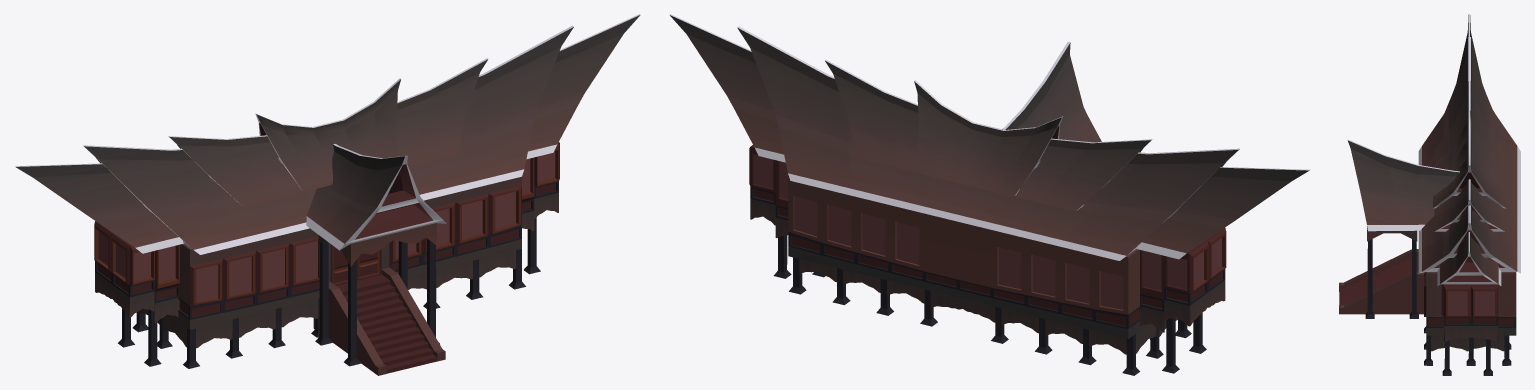
File: rumah gadang.fbx
3 renders of one model, left to right at view 1: azimuth 30°, elevation 25°; view 2: azimuth 150°, elevation 25°; view 3: azimuth 270°, elevation 25°, orthographic. The views are drawn at different scales.
Visible parts, largest first — view 1: pCube28.001, Cube.039, pCube5.001, pCube9.001, cube, pCube3.001, Cube.040, Cube.038, Cube.036, cube.001, cube.003, pasted__pasted__pasted__pasted__pasted__pCube18.005 (+6 smaller); view 2: pCube28.001, Cube.039, pCube5.001, pCube9.001, pCube3.001, Cube.040, cube, cube.003, pasted__pasted__pasted__pasted__pasted__pCube18.005, cube.002, pasted__pasted__pasted__pasted__pasted__pCube18.004, pasted__pasted__pasted__pasted__pasted__pCube18.002 (+3 smaller); view 3: pCube28.001, cube, pCube9.001, pCube3.001, Cube.036, pCube5.001, Cube.040, Cube.039, Cube.038, cube.001, pasted__pasted__pasted__pasted__pasted__pCube18.007, pasted__pasted__pasted__pasted__pasted__pCube18.001 (+4 smaller).
Part boxes in pixels (x1,y1,x2,y2): pCube28.001: [83, 25, 573, 254]; Cube.039: [170, 176, 521, 329]; pCube5.001: [15, 14, 640, 253]; pCube9.001: [168, 58, 488, 206]; cube: [306, 144, 446, 250]; pCube3.001: [255, 78, 400, 191]; Cube.040: [94, 142, 559, 303]; Cube.038: [336, 275, 437, 373]; Cube.036: [313, 267, 445, 375]; cube.001: [315, 238, 439, 366]; cube.003: [132, 249, 525, 368]; pasted__pasted__pasted__pasted__pasted__pCube18.005: [196, 298, 318, 348]; pCube28.001: [737, 26, 1239, 260]; Cube.039: [788, 175, 1147, 338]; pCube5.001: [669, 14, 1310, 259]; pCube9.001: [825, 59, 1152, 211]; pCube3.001: [914, 80, 1063, 195]; Cube.040: [749, 145, 1226, 311]; cube: [1002, 41, 1101, 142]; cube.003: [789, 257, 1191, 375]; pasted__pasted__pasted__pasted__pasted__pCube18.005: [1001, 308, 1126, 354]; cube.002: [773, 235, 1206, 373]; pasted__pasted__pasted__pasted__pasted__pCube18.004: [799, 259, 924, 303]; pasted__pasted__pasted__pasted__pasted__pCube18.002: [750, 199, 1225, 326]; pCube28.001: [1418, 37, 1520, 273]; cube: [1347, 139, 1459, 231]; pCube9.001: [1434, 78, 1504, 231]; pCube3.001: [1433, 110, 1506, 208]; Cube.036: [1339, 249, 1423, 314]; pCube5.001: [1437, 14, 1501, 286]; Cube.040: [1441, 284, 1498, 325]; Cube.039: [1424, 272, 1516, 335]; Cube.038: [1339, 256, 1418, 304]; cube.001: [1365, 239, 1418, 318]; pasted__pasted__pasted__pasted__pasted__pCube18.007: [1431, 335, 1504, 351]; pasted__pasted__pasted__pasted__pasted__pCube18.001: [1445, 326, 1497, 341].
Size of the model in its own units: 6780 by 2282 by 2191.
